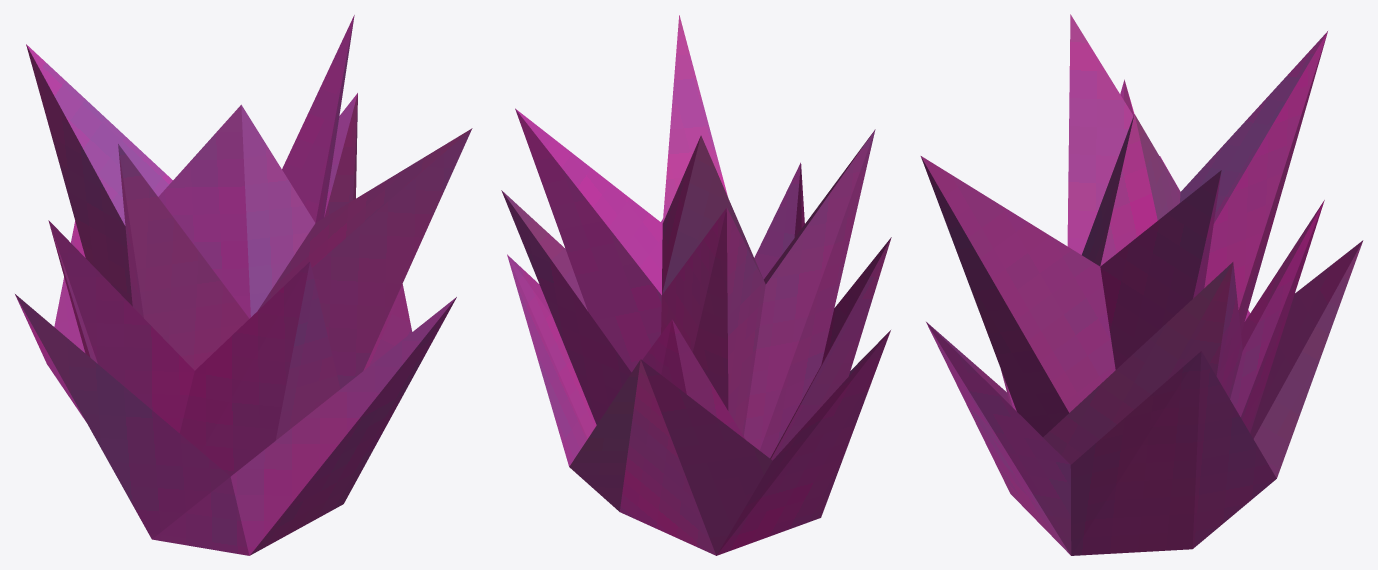
File: bush.gltf
3 renders of one model, left to right at view 1: azimuth 30°, elevation 25°; view 2: azimuth 150°, elevation 25°; view 3: azimuth 270°, elevation 25°, orthographic. The views are drawn at different scales.
Parts seen in each view (by area): view 1: cuboid; view 2: cuboid; view 3: cuboid.
Boxes of the visible parts, bbox=[...] form: cuboid: bbox=[15, 15, 472, 555]; cuboid: bbox=[501, 15, 891, 555]; cuboid: bbox=[920, 14, 1363, 555].
Bounding box in the file's own units: 1.02 × 1.04 × 0.9784.
Materials: 1 (1 with a texture image).
